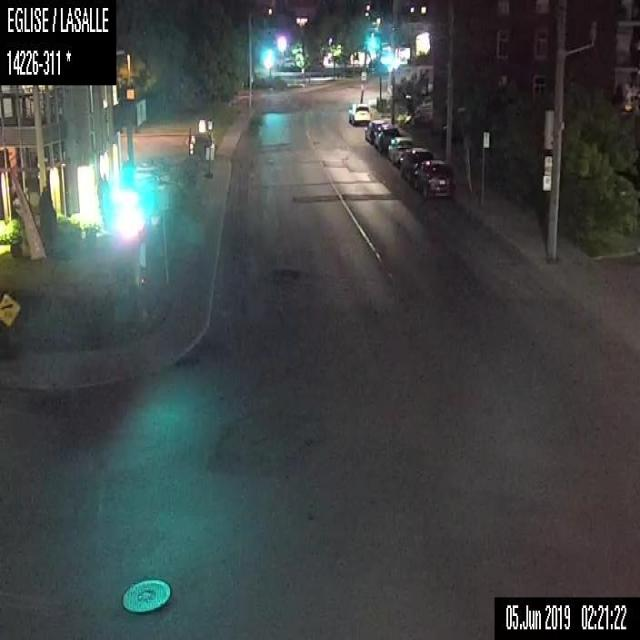vehicle: (413, 159, 454, 200), (398, 146, 432, 183), (374, 123, 398, 154), (386, 136, 413, 162), (347, 102, 370, 127)
